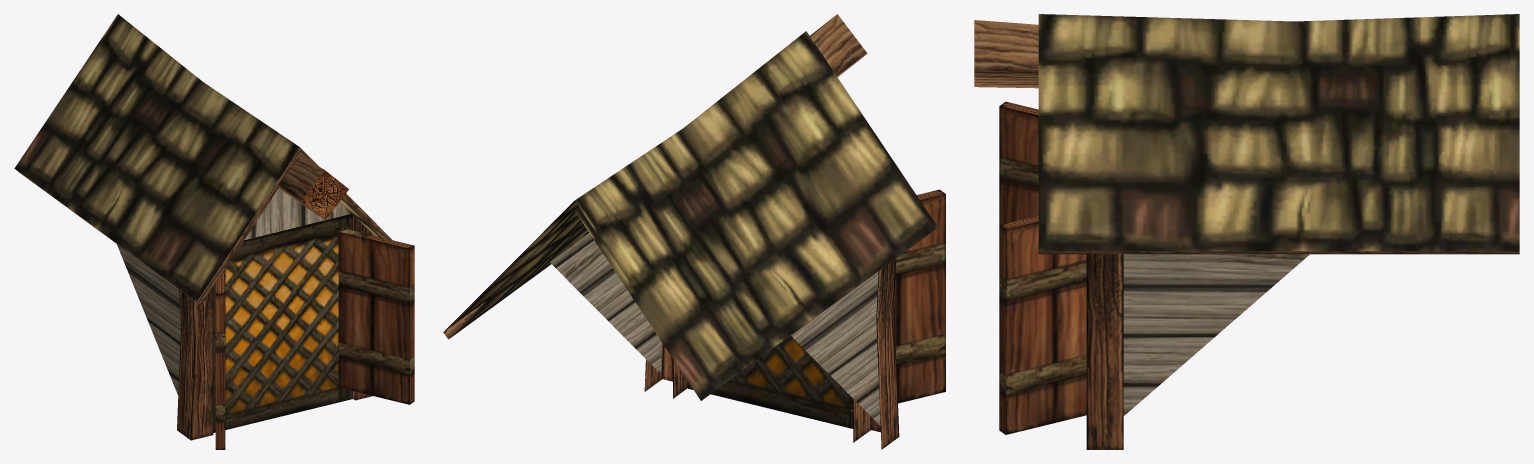
The model's file is INST_LT_CODWINDOW_01.fbx.
3 renders of one model, left to right at view 1: azimuth 30°, elevation 25°; view 2: azimuth 150°, elevation 25°; view 3: azimuth 270°, elevation 25°, orthographic. The views are drawn at different scales.
Parts seen in each view (by area): view 1: INST_LT_CODWINDOW_01; view 2: INST_LT_CODWINDOW_01; view 3: INST_LT_CODWINDOW_01.
Boxes of the visible parts, box(x1,y1,x2,y2) form: INST_LT_CODWINDOW_01: box(14, 14, 414, 449); INST_LT_CODWINDOW_01: box(443, 14, 945, 449); INST_LT_CODWINDOW_01: box(974, 14, 1519, 449).
Size of the model in its own units: 11024 by 14456 by 19045.
7 materials, 7 textured.
